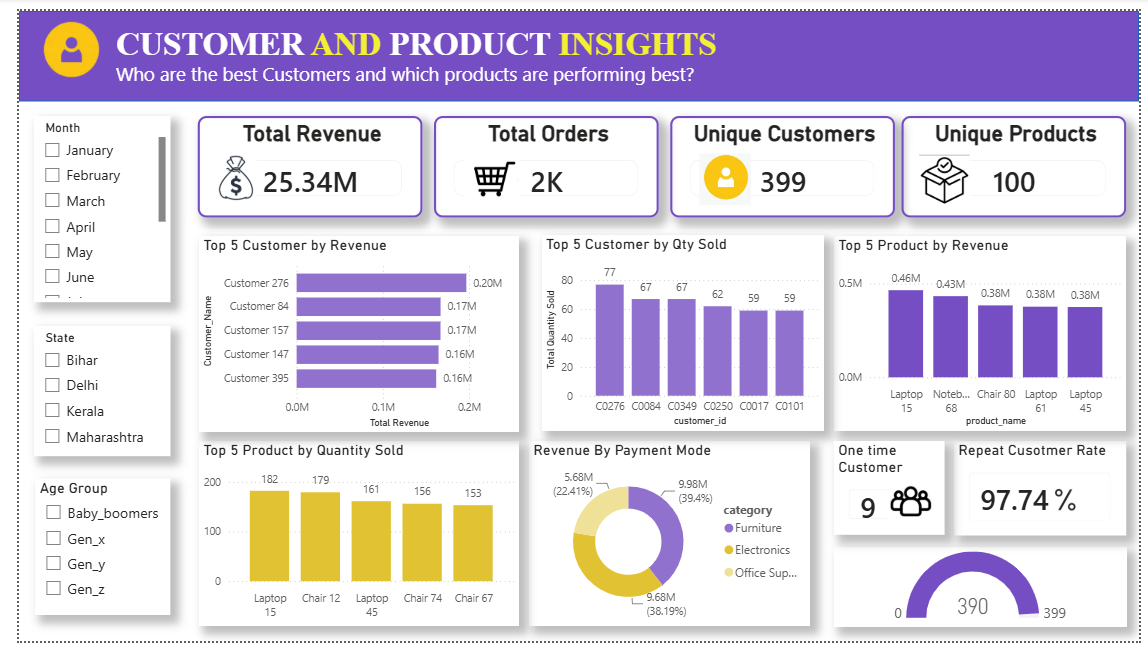

The page's visual inventory and layout, read from the dashboard file:
{"tool":"powerbi","page":{"name":"Customer and Product insight","canvas":[1280,720],"ordinal":1},"visuals":[{"type":"cardVisual","title":"Repeat Cusotmer Rate","fields":{"Data":["da_project orders.Repeat Customer %"]},"box":[1069.2,491.7,196.7,108.3],"z":0},{"type":"shape","box":[0,0,1280,103.3],"z":1000},{"type":"textbox","box":[105.7,11.4,834.3,70],"z":2000},{"type":"image","box":[21.4,0,74.3,94.3],"z":3000},{"type":"textbox","box":[105.7,51.4,722.9,55.7],"z":4000},{"type":"group","id":"g1","title":"Group 1","box":[204,120,257.1,116],"z":4000,"group":"g2"},{"type":"cardVisual","title":"Total Revenue","fields":{"Data":["da_project orders.Total Revenue"]},"box":[204,120,257.1,116],"z":4000,"group":"g1"},{"type":"cardVisual","title":"Total Orders","fields":{"Data":["da_project orders.Toatal ordes"]},"box":[473.9,120,257.1,116],"z":4000,"group":"g3"},{"type":"cardVisual","title":"Unique Customers","fields":{"Data":["da_project customer.Unique Customers"]},"box":[743.7,120,257.1,116],"z":4000,"group":"g4"},{"type":"cardVisual","title":"Unique Products","fields":{"Data":["da_project product.unique products"]},"box":[1008.9,120,257.1,116],"z":4000,"group":"g5"},{"type":"image","box":[213.1,160.7,63.6,58.3],"z":4501,"group":"g1"},{"type":"image","box":[508.5,163.3,63.3,58.9],"z":4501,"group":"g3"},{"type":"image","box":[775.1,163.3,62.2,58.9],"z":4501,"group":"g4"},{"type":"image","box":[1025.6,164.4,64.4,57.8],"z":4501,"group":"g5"},{"type":"group","id":"g2","title":"Group 2","box":[204,120,1062,116],"z":5000},{"type":"group","id":"g3","title":"Group 1","box":[473.9,120,257.1,116],"z":5000,"group":"g2"},{"type":"group","id":"g4","title":"Group 1","box":[743.7,120,257.1,116],"z":6000,"group":"g2"},{"type":"barChart","title":"Top 5 Customer by Revenue","fields":{"Category":["da_project customer.Customer_Name"],"Y":["da_project orders.Total Revenue"]},"box":[205.7,257.1,365.7,224.3],"z":6000},{"type":"group","id":"g5","title":"Group 1","box":[1008.9,120,257.1,116],"z":7000,"group":"g2"},{"type":"columnChart","title":"Top 5 Product by Revenue","fields":{"Y":["da_project orders.Total Revenue"],"Category":["da_project product.product_name"]},"box":[931.2,257.5,333.8,222.5],"z":7000},{"type":"columnChart","title":"Top 5 Product by Quantity Sold","fields":{"Category":["da_project product.product_name"],"Y":["da_project orders.Total Quantity Sold"]},"box":[205.7,491.4,365.7,211.4],"z":8000},{"type":"donutChart","title":"Revenue By Category","fields":{"Y":["da_project orders.Total Revenue"],"Category":["da_project product.category"]},"box":[582.9,491.4,321.4,211.4],"z":9000},{"type":"slicer","fields":{"Values":["da_project orders.order_date.Variation.Date Hierarchy.Month"]},"box":[17.1,120,155.7,212.9],"z":10000},{"type":"slicer","fields":{"Values":["da_project customer.State"]},"box":[17.1,360,155.7,148.6],"z":11000},{"type":"slicer","title":"Age Group","fields":{"Values":["da_project customer.age_group"]},"box":[18.6,534.3,154.3,170],"z":12000},{"type":"image","box":[1181.7,534.2,28.3,46.7],"z":13000},{"type":"columnChart","title":"Top 5 Customer by Qty Sold","fields":{"Category":["da_project customer.customer_id"],"Y":["da_project orders.Total Quantity Sold"]},"box":[597,256,322,224],"z":14000},{"type":"cardVisual","title":"One time Customer","fields":{"Data":["da_project orders.Single Customer"]},"box":[930.9,490.9,126.4,107.3],"z":15000},{"type":"image","box":[994.3,535.7,51.4,45.7],"z":15001},{"type":"gauge","fields":{"MaxValue":["da_project orders.Unique_Customers"],"Y":["da_project orders.Repeat Customers"]},"box":[930.9,612.7,334.5,90.9],"z":15002}]}

Visuals, with their boxes in screenshot pixels (x1, y1, x2, y2), scaled from the page's 1280x720 canvas onto the 1148x656 screenshot:
"Repeat Cusotmer Rate" cardVisual: [x1=959, y1=448, x2=1135, y2=547]
shape: [x1=0, y1=0, x2=1147, y2=94]
textbox: [x1=95, y1=10, x2=843, y2=74]
image: [x1=19, y1=0, x2=86, y2=86]
textbox: [x1=95, y1=47, x2=743, y2=98]
"Group 1" group: [x1=183, y1=109, x2=414, y2=215]
"Total Revenue" cardVisual: [x1=183, y1=109, x2=414, y2=215]
"Total Orders" cardVisual: [x1=425, y1=109, x2=656, y2=215]
"Unique Customers" cardVisual: [x1=667, y1=109, x2=898, y2=215]
"Unique Products" cardVisual: [x1=905, y1=109, x2=1135, y2=215]
image: [x1=191, y1=146, x2=248, y2=200]
image: [x1=456, y1=149, x2=513, y2=202]
image: [x1=695, y1=149, x2=751, y2=202]
image: [x1=920, y1=150, x2=978, y2=202]
"Group 2" group: [x1=183, y1=109, x2=1135, y2=215]
"Group 1" group: [x1=425, y1=109, x2=656, y2=215]
"Group 1" group: [x1=667, y1=109, x2=898, y2=215]
"Top 5 Customer by Revenue" barChart: [x1=184, y1=234, x2=512, y2=439]
"Group 1" group: [x1=905, y1=109, x2=1135, y2=215]
"Top 5 Product by Revenue" columnChart: [x1=835, y1=235, x2=1135, y2=437]
"Top 5 Product by Quantity Sold" columnChart: [x1=184, y1=448, x2=512, y2=640]
"Revenue By Category" donutChart: [x1=523, y1=448, x2=811, y2=640]
slicer - da_project orders.order_date.Variation.Date Hierarchy.Month: [x1=15, y1=109, x2=155, y2=303]
slicer - da_project customer.State: [x1=15, y1=328, x2=155, y2=463]
"Age Group" slicer: [x1=17, y1=487, x2=155, y2=642]
image: [x1=1060, y1=487, x2=1085, y2=529]
"Top 5 Customer by Qty Sold" columnChart: [x1=535, y1=233, x2=824, y2=437]
"One time Customer" cardVisual: [x1=835, y1=447, x2=948, y2=545]
image: [x1=892, y1=488, x2=938, y2=530]
gauge - da_project orders.Unique_Customers x da_project orders.Repeat Customers: [x1=835, y1=558, x2=1135, y2=641]
